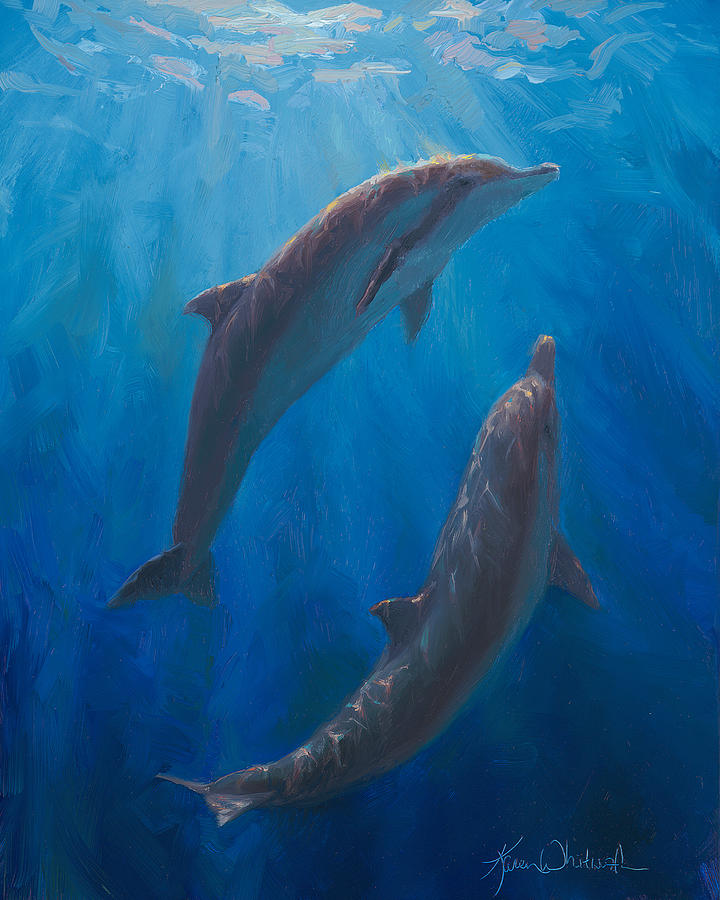dolphin: (144, 129, 570, 679), (186, 346, 631, 844)
